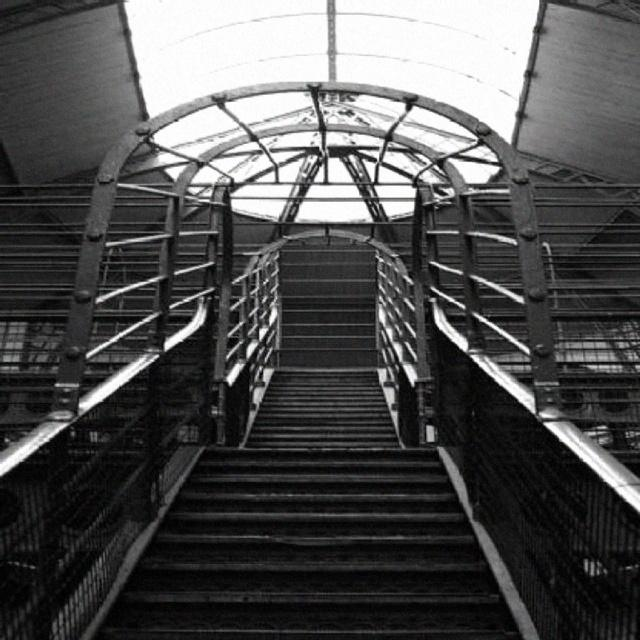stair: (59, 436, 536, 638)
